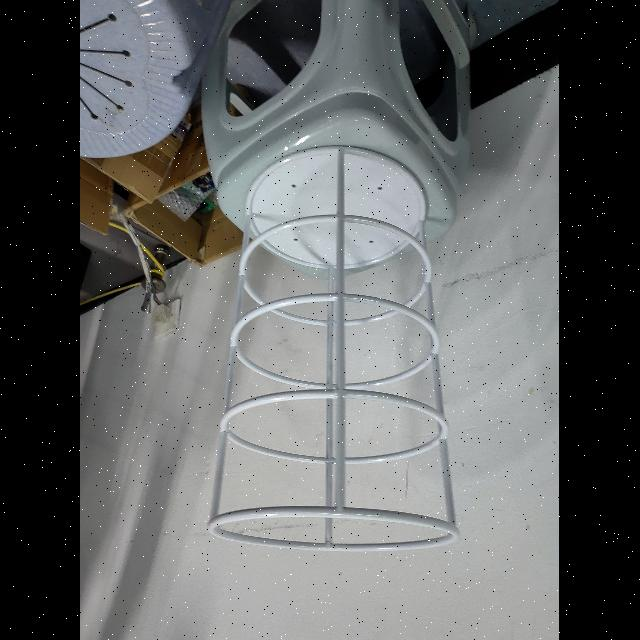S: (204, 140, 462, 558)
